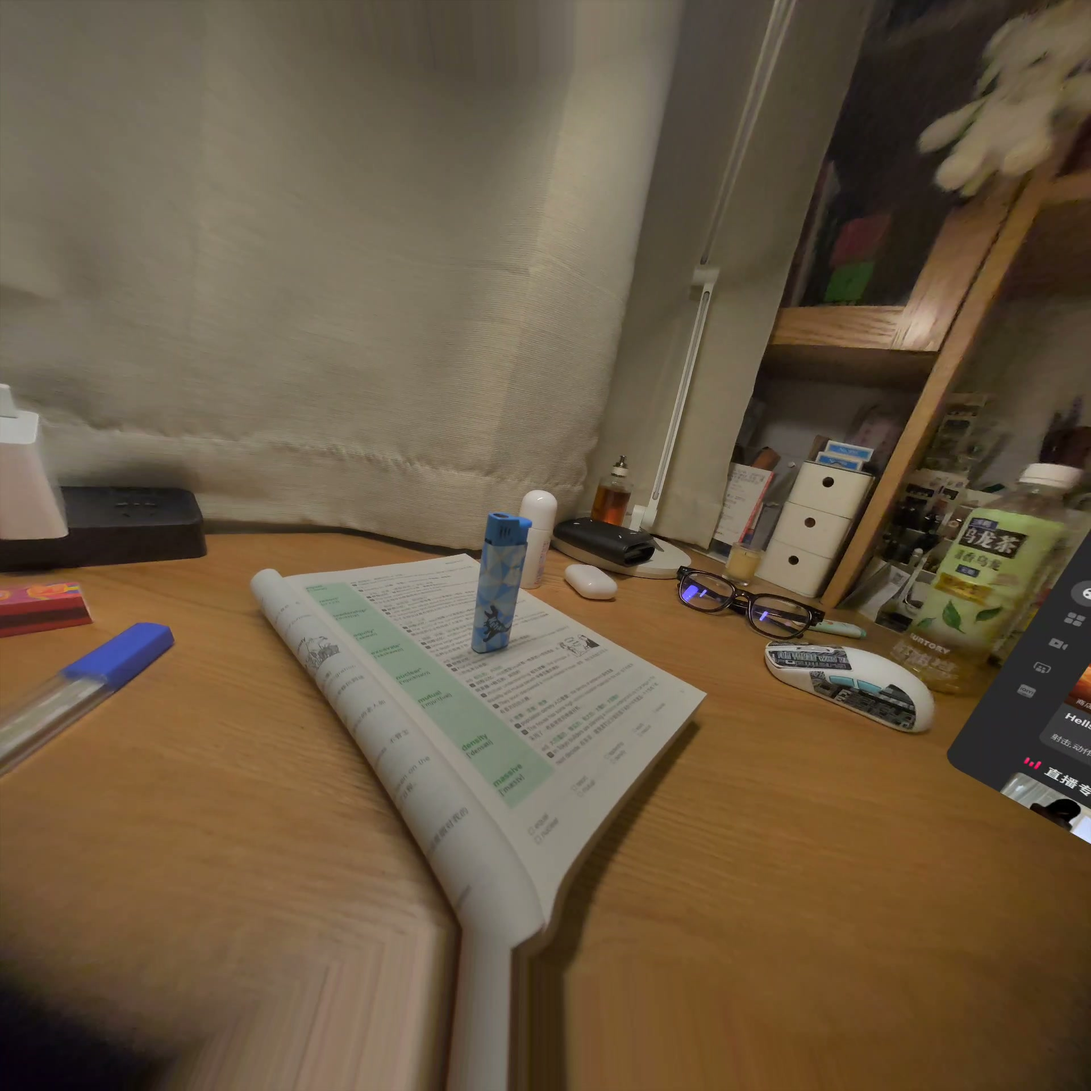lighter: (471, 513, 531, 653)
